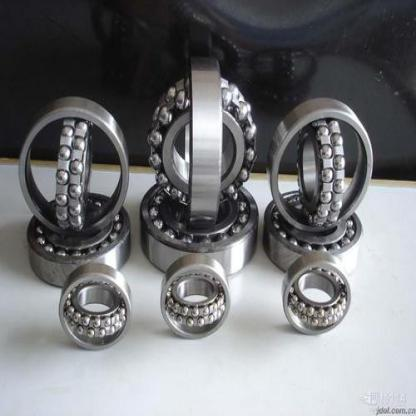FOD: (139, 172, 261, 279), (25, 185, 133, 291), (262, 183, 364, 273), (55, 263, 133, 353)
